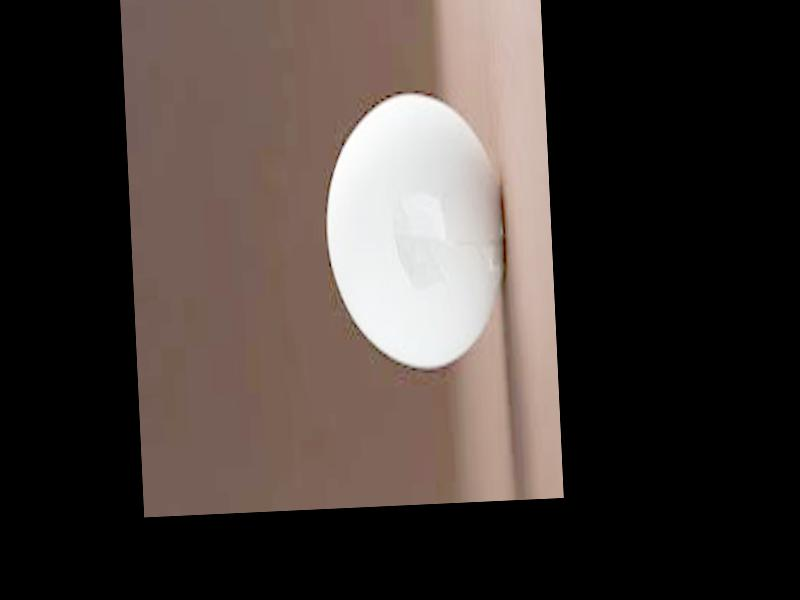Eggs: (320, 90, 510, 368)
